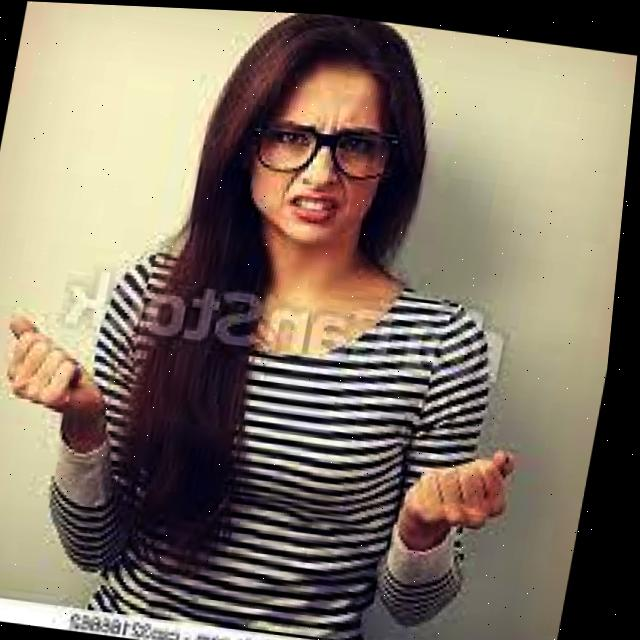angry: (220, 8, 447, 273)
